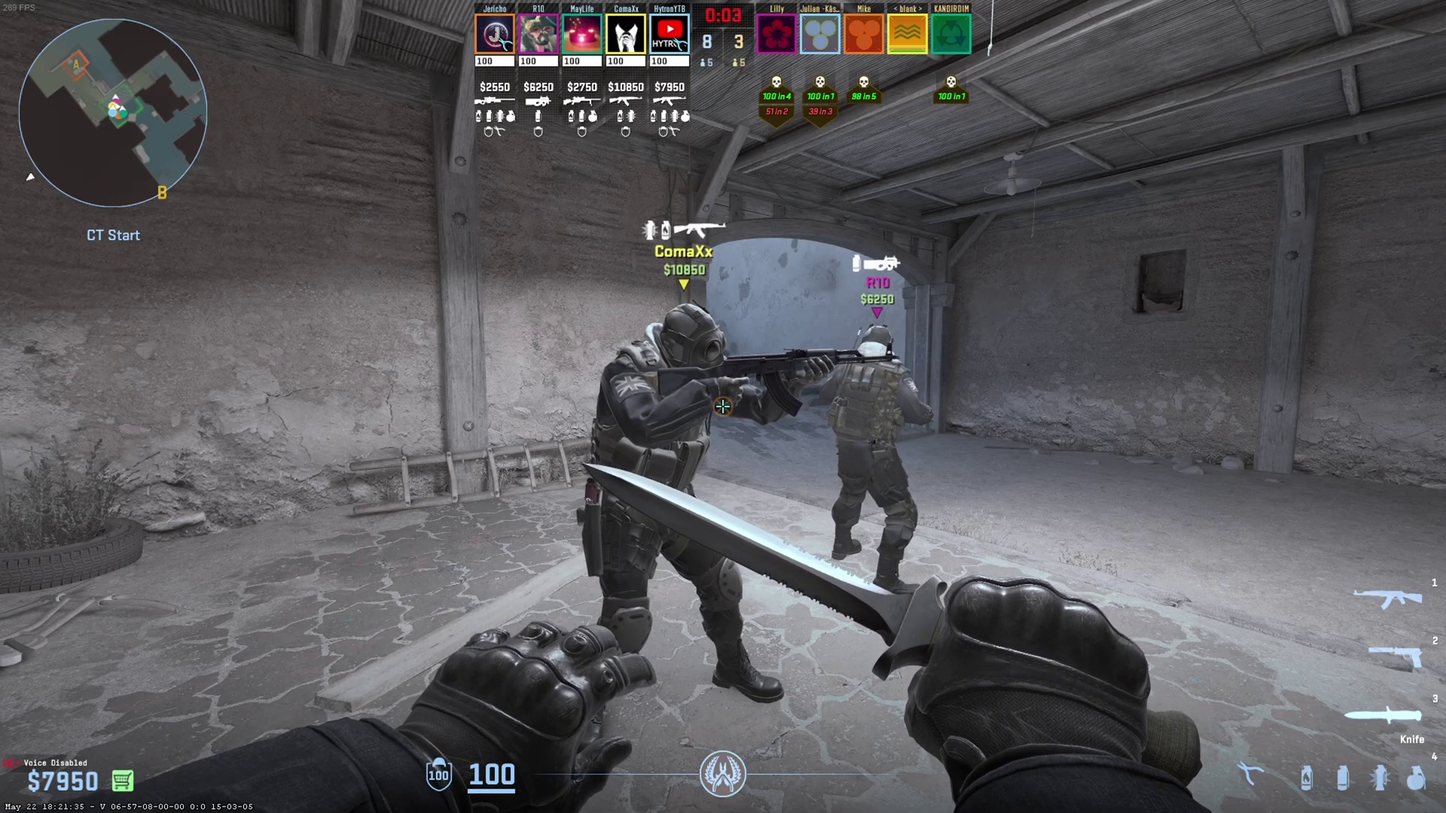CT: (593, 295, 761, 709), (831, 313, 922, 590)
